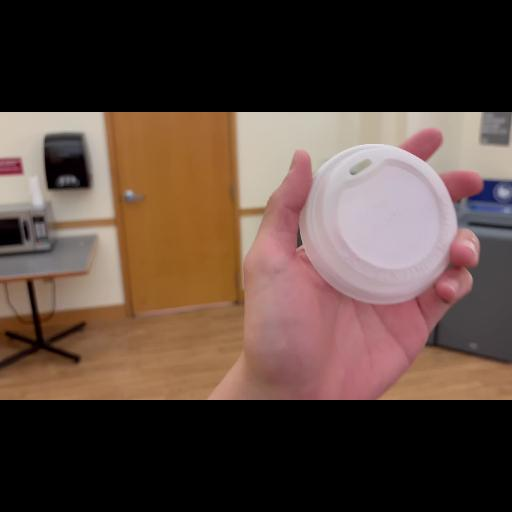lp_cup_lids: (291, 144, 461, 314)
